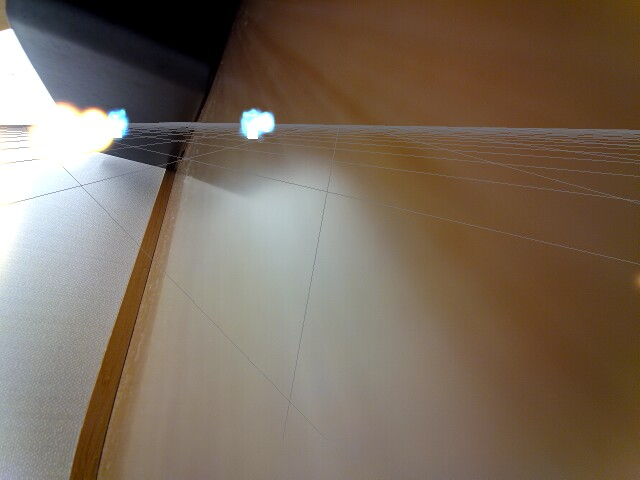fire: (34, 107, 115, 155)
